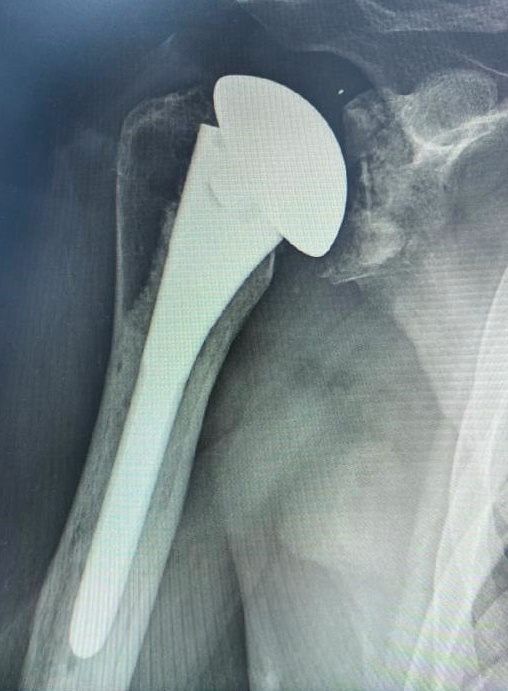Shoulder - Anotomical - Stryker: (179, 66, 353, 266)
